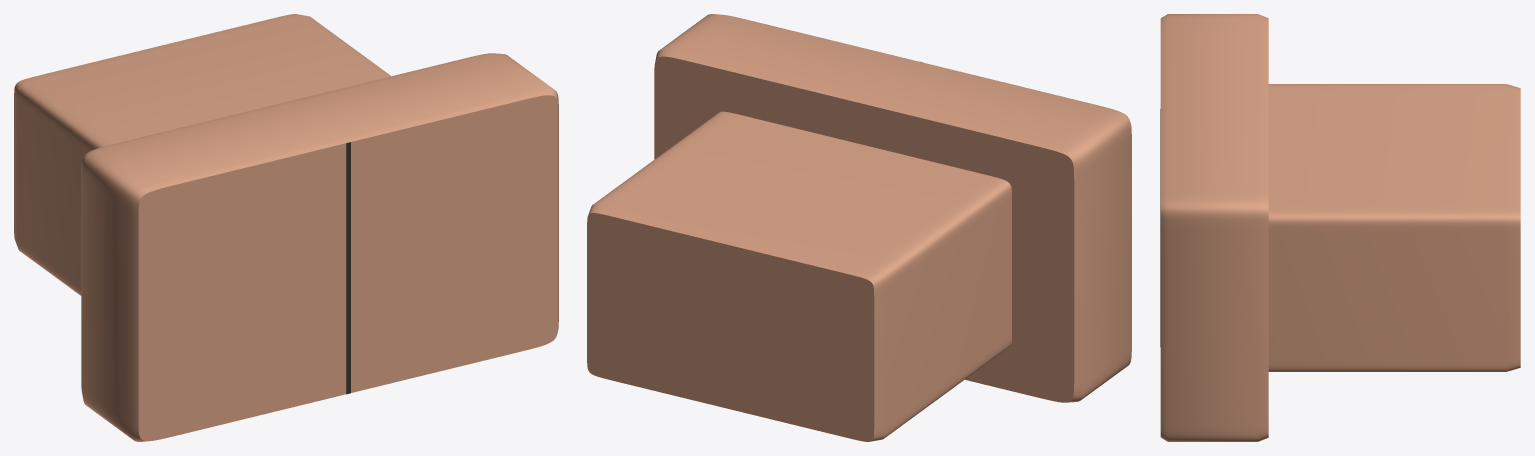
Rendered from eurofit-k-61711sb-v2.glb.
3 views of the same model, side by side, from view 1: azimuth 30°, elevation 25°; view 2: azimuth 150°, elevation 25°; view 3: azimuth 270°, elevation 25° (orthographic). The views are drawn at different scales.
Parts seen in each view (by area): view 1: K61711 rectangular crown, K61711 slab stem, Central cap groove; view 2: K61711 slab stem, K61711 rectangular crown; view 3: K61711 slab stem, K61711 rectangular crown.
Part boxes in pixels (box(x1,y1,x2,y2)): K61711 rectangular crown: box(81, 53, 558, 441); K61711 slab stem: box(14, 14, 390, 295); Central cap groove: box(346, 142, 350, 394); K61711 slab stem: box(587, 111, 1011, 441); K61711 rectangular crown: box(654, 14, 1131, 402); K61711 slab stem: box(1268, 84, 1520, 371); K61711 rectangular crown: box(1160, 14, 1268, 441).
Bounding box in the file's own units: 0.035 × 0.02 × 0.027.
